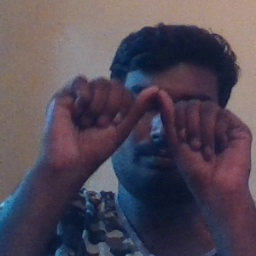A: (72, 72, 222, 182)
